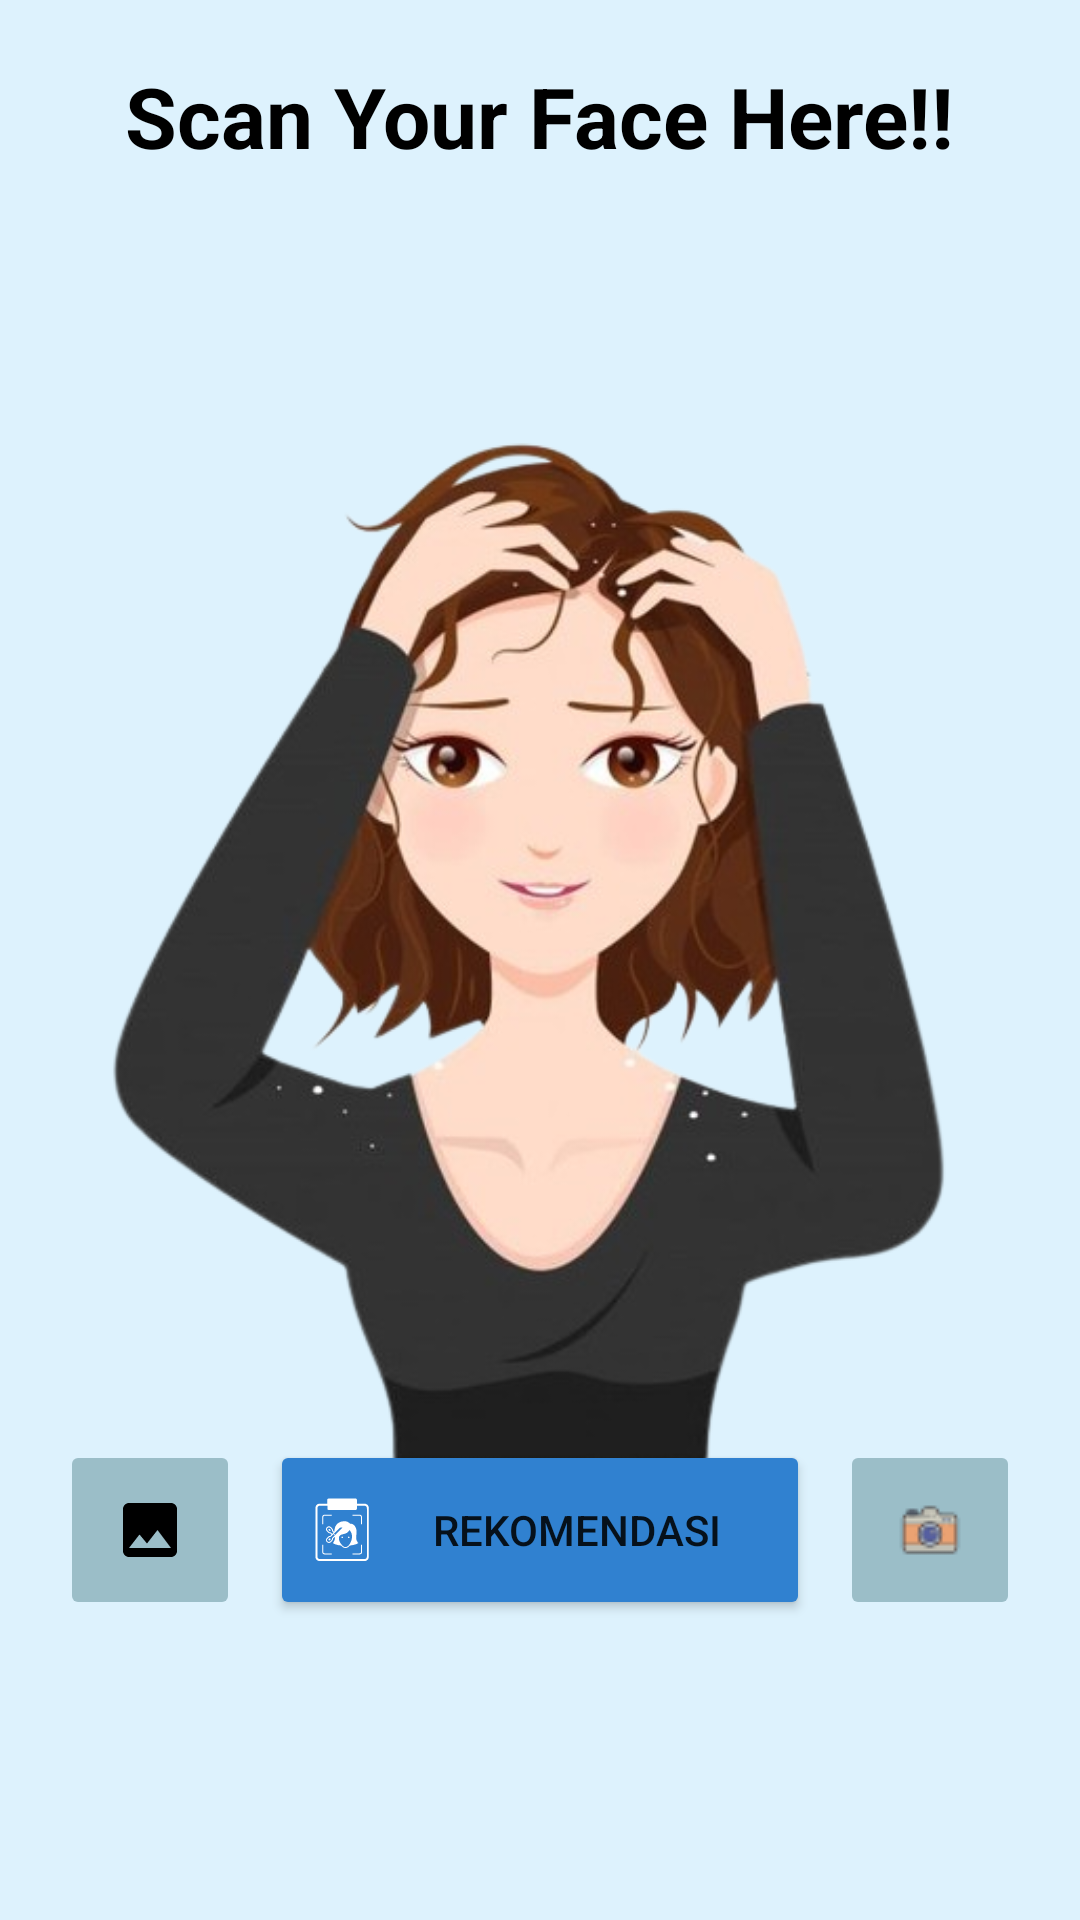

Locate icon controls on the screen. Image size 1080×1920, boxes as (x1, y1, x2, y2).
camera: (852, 1458, 1008, 1602)
galeri: (72, 1458, 228, 1602)
